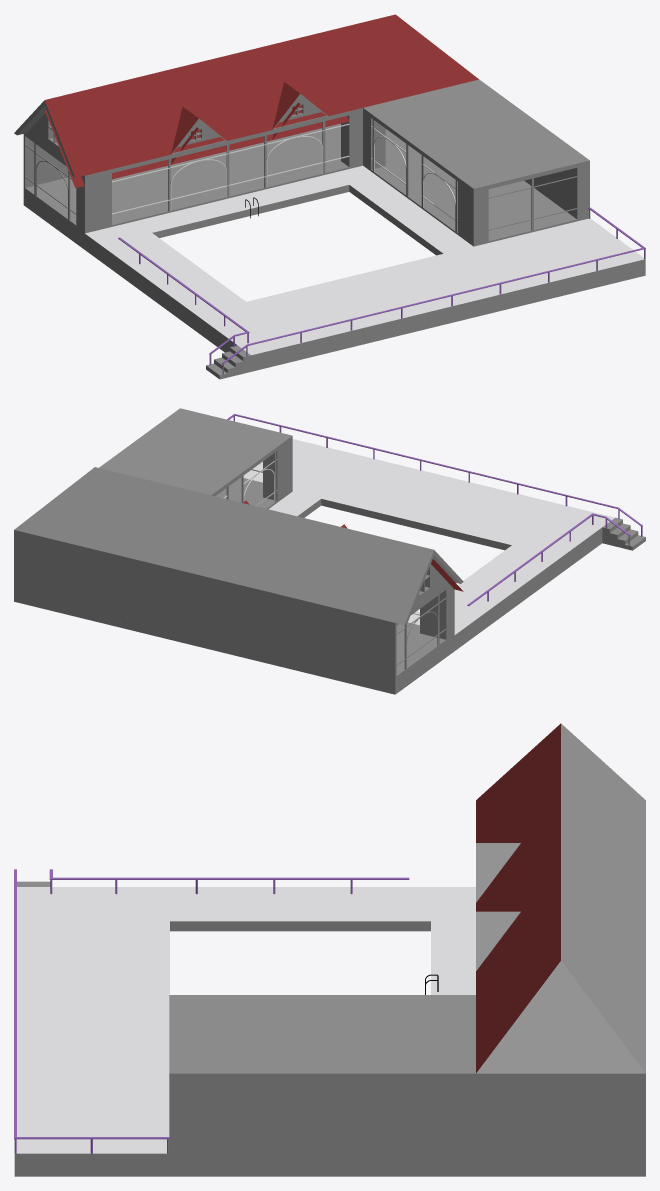
File: HouseWithPool.fbx
The picture shows the model from 3 angles, top to bottom: view 1: azimuth 30°, elevation 25°; view 2: azimuth 150°, elevation 25°; view 3: azimuth 270°, elevation 25°; orthographic projection. The views are drawn at different scales.
Visible parts, largest first — view 1: Layer:0, Object02; view 2: Layer:0; view 3: Layer:0.
Part boxes in pixels (box(x1,y1,x2,y2)): Layer:0: box(14, 14, 645, 379); Object02: box(45, 110, 349, 188); Layer:0: box(14, 408, 645, 694); Layer:0: box(14, 723, 645, 1176).
Size of the model in its own units: 2040 by 594 by 1891.
